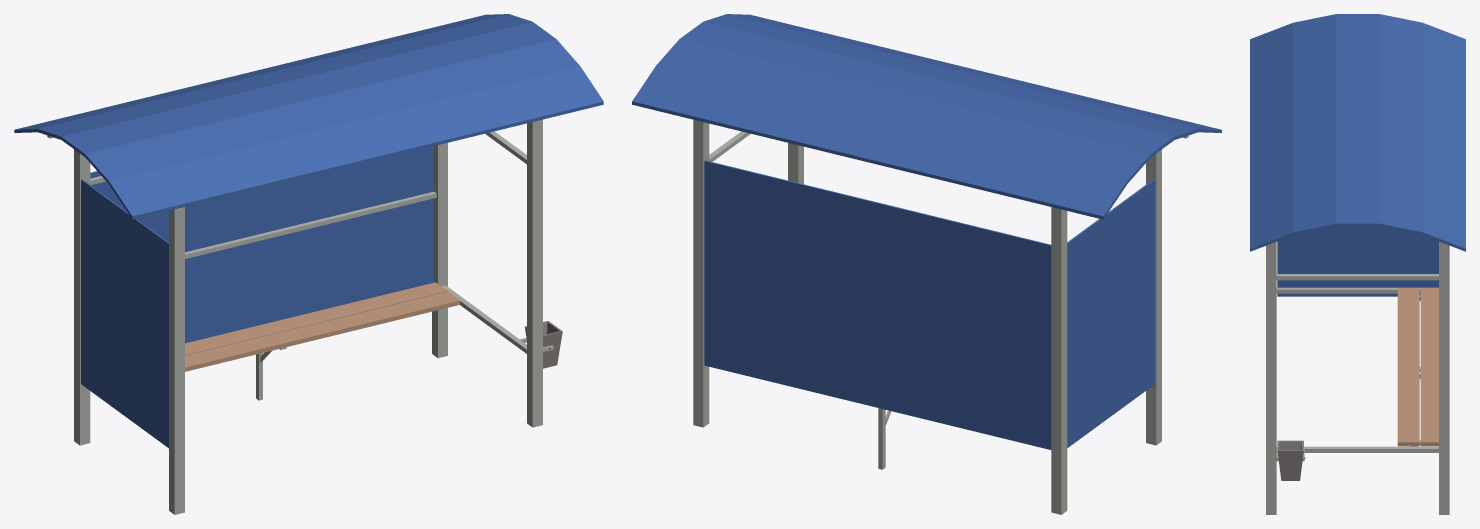
Rendered from SM_Halt_01.fbx.
3 renders of one model, left to right at view 1: azimuth 30°, elevation 25°; view 2: azimuth 150°, elevation 25°; view 3: azimuth 270°, elevation 25°, orthographic. The views are drawn at different scales.
Parts seen in each view (by area): view 1: SM_Halt_01; view 2: SM_Halt_01; view 3: SM_Halt_01.
Part boxes in pixels (box(x1,y1,x2,y2)): SM_Halt_01: box(14, 14, 603, 514); SM_Halt_01: box(632, 14, 1221, 514); SM_Halt_01: box(1250, 14, 1465, 514).
Size of the model in its own units: 452 by 317 by 197.
